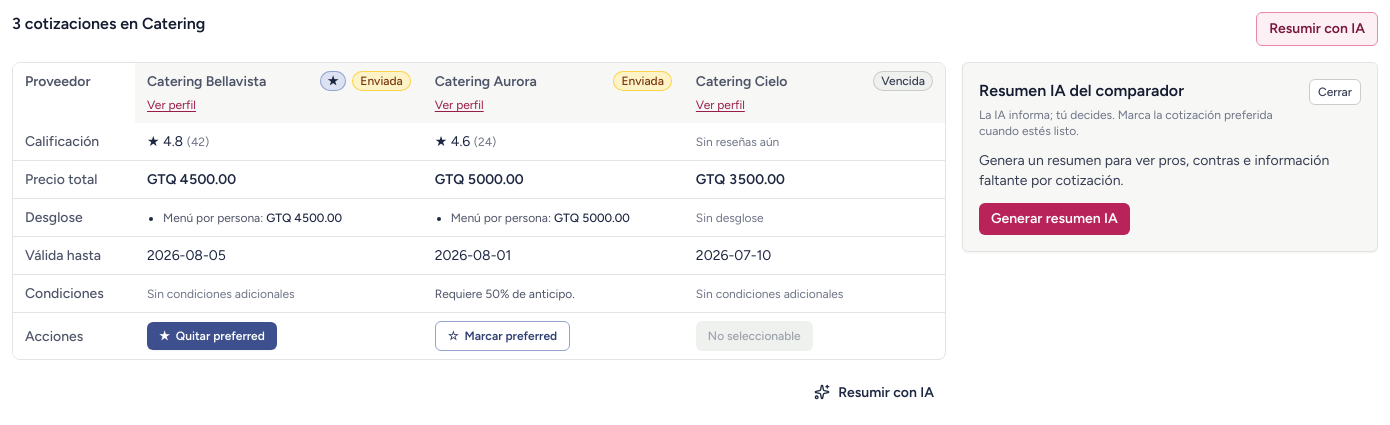
Test: QuoteComparator — CTA «Resumir con IA» › reabre el panel de resumen y le lleva el foco, sin navegar
La persona cierra el panel…
Click the button with test id "ai-quote-summary-trigger" at (1317, 29), box [1256,12,1378,46]
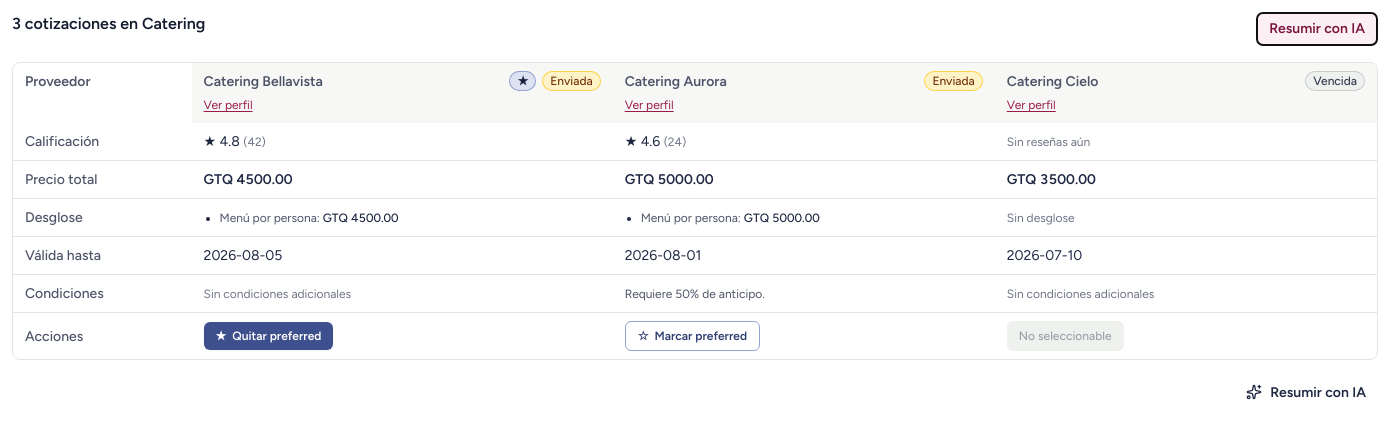
Expected: the element with id "ai-quote-summary-panel-region" is gone
…y lo vuelve a abrir desde el CTA de la tabla.
Click the button "Resumir con IA" below "No seleccionable" at (1306, 392), box [1234,376,1378,408]
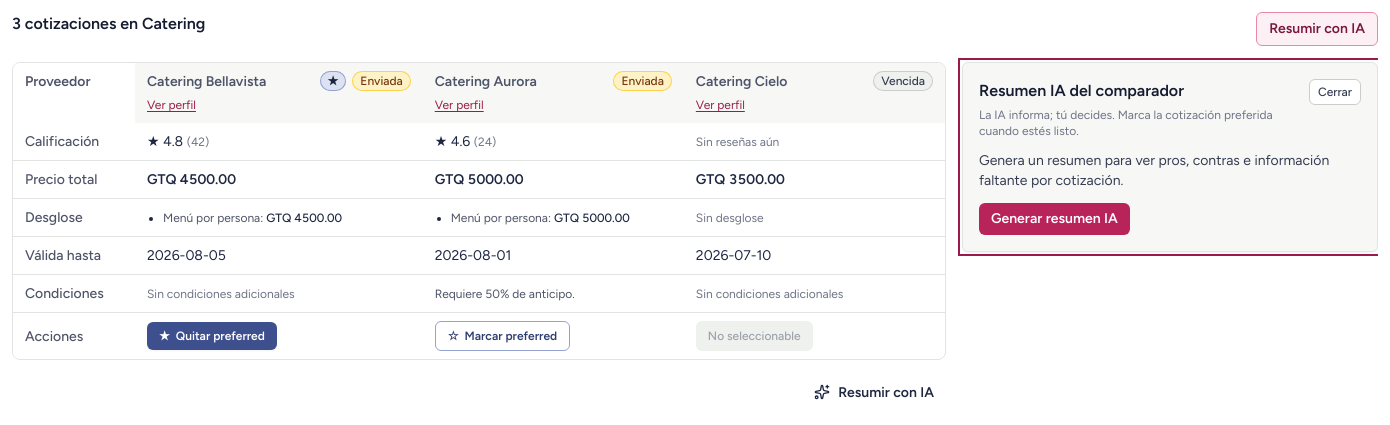
Expected: the element with id "ai-quote-summary-panel-region" is shown, [962,62,1378,252]
